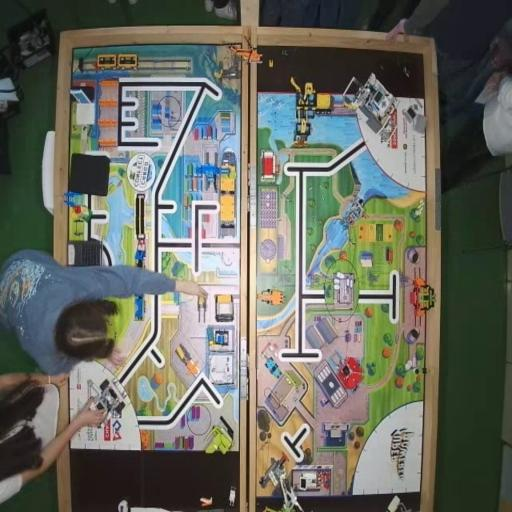lego_robot: (342, 71, 399, 139), (87, 377, 127, 426)
